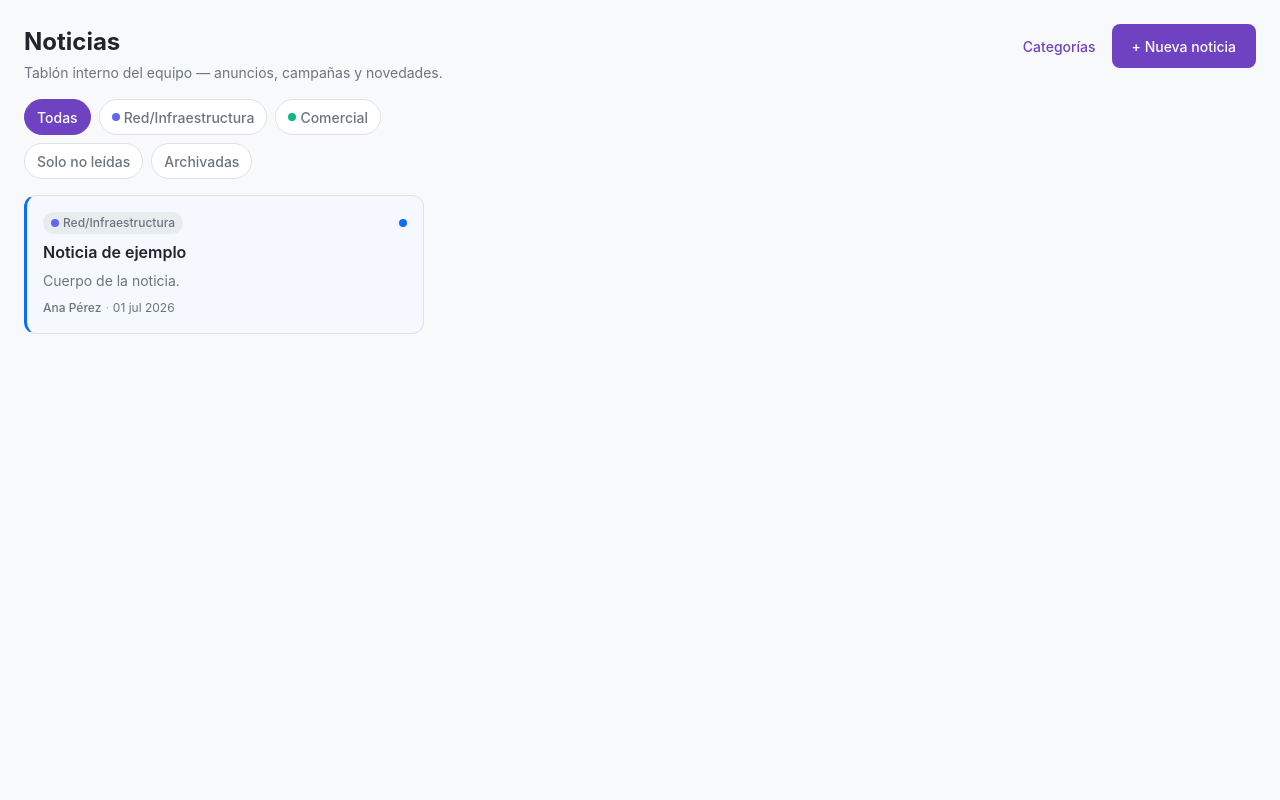
Test: NewsBoardPage — re-review fix: seam M1xM3 (archivar cierra el drawer + toast visible) › archiving an active post from the drawer closes the drawer AND shows a visible success toast on the board
Open the drawer (post is already read, so no markRead noise).
What coordinates should you click on to do the following:
click the button "Noticia de ejemplo"
I would click on:
 (115, 252)
Its box is left=43, top=242, right=186, bottom=262.
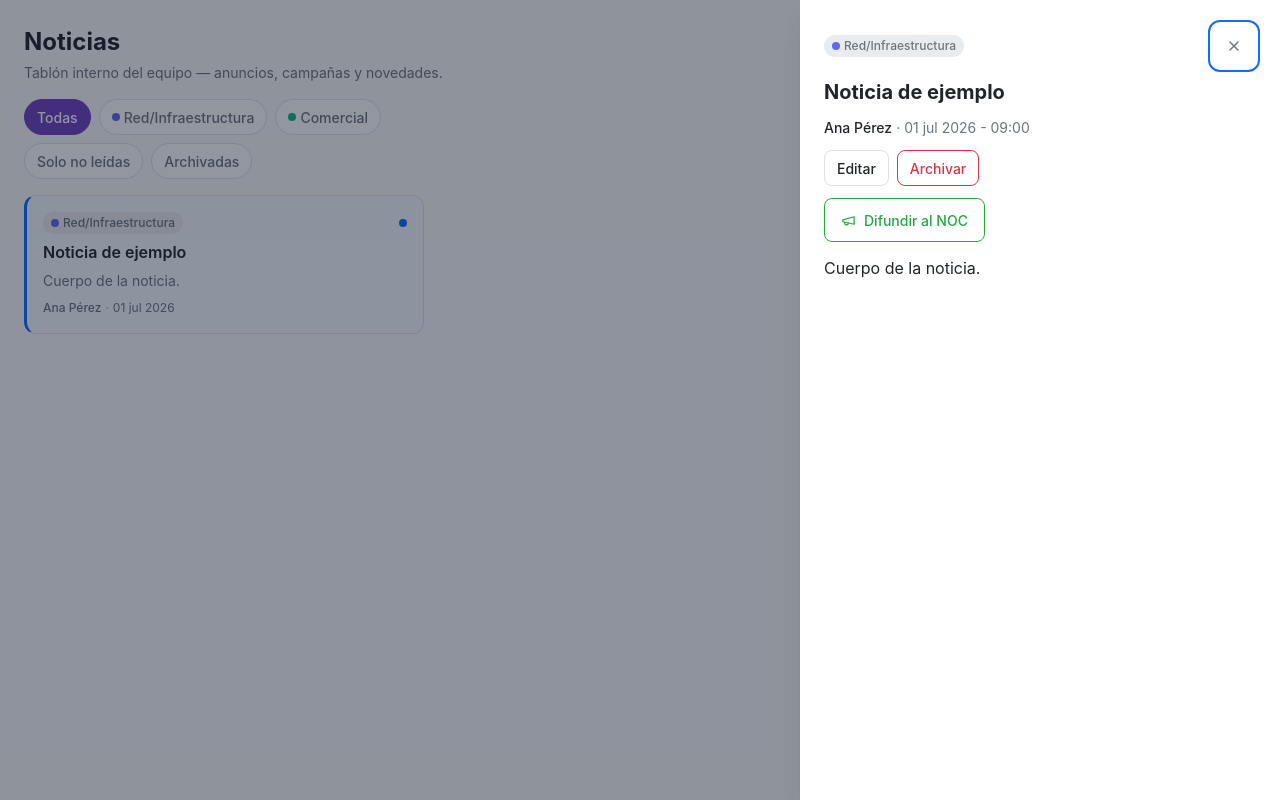
Expected: the dialog is shown, left=800, top=0, right=1279, bottom=799
What coordinates should you click on to do the following:
click the button "Archivar"
I would click on:
 (938, 168)
Its box is left=897, top=150, right=979, bottom=186.
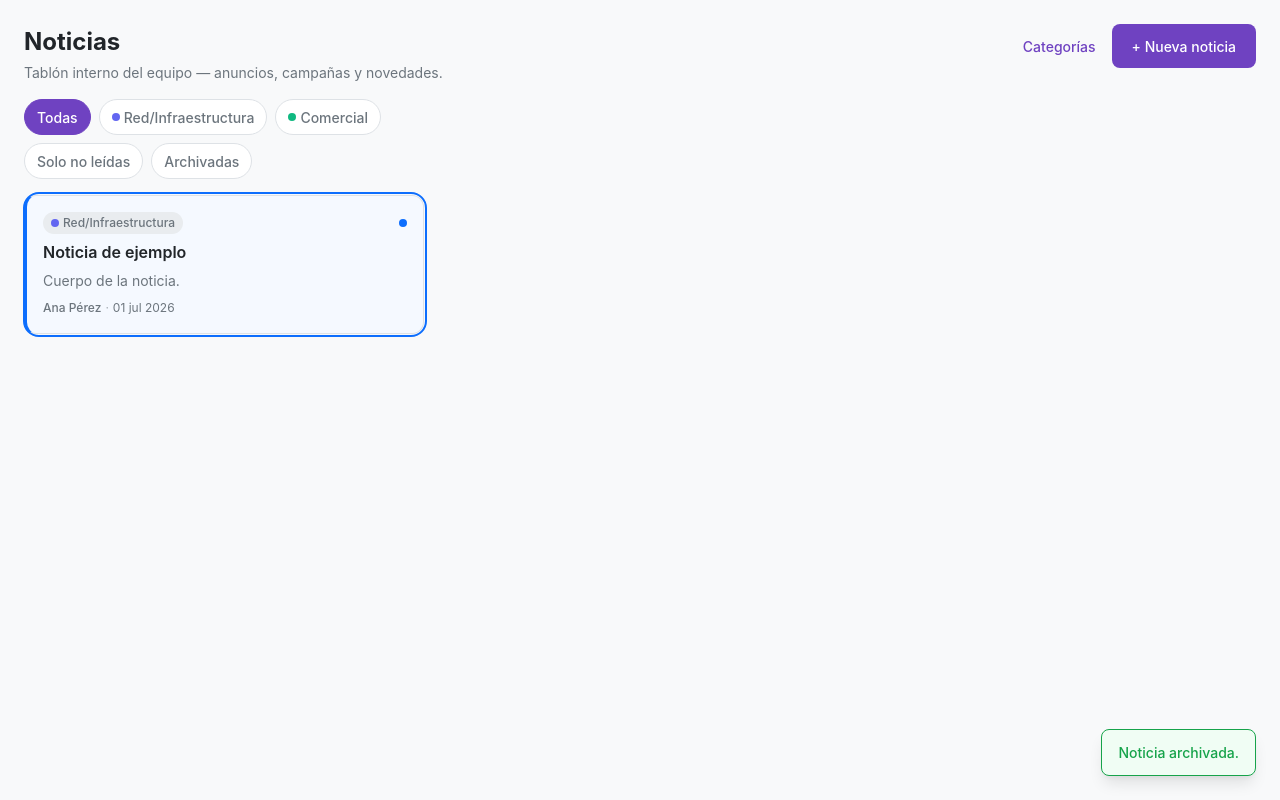
Expected: the dialog is gone
Expected: the message shows "archivad", left=1118, top=744, right=1239, bottom=761
